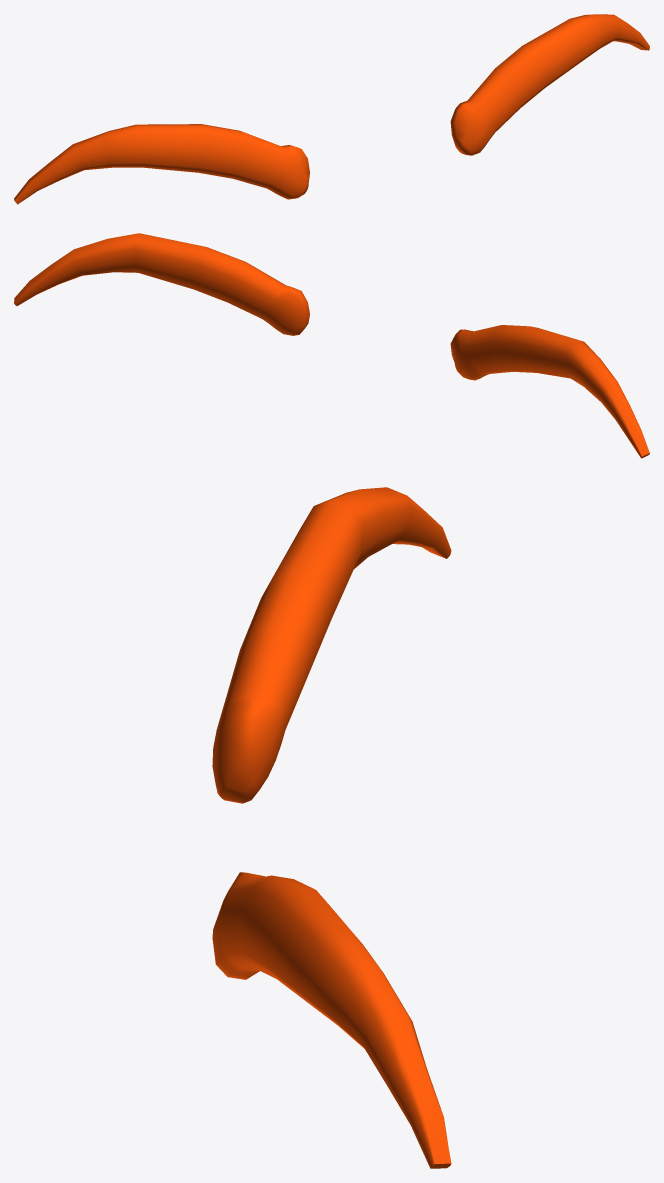
Rendered from Eyebrows_05_06.fbx.
3 renders of one model, top to bottom at view 1: azimuth 30°, elevation 25°; view 2: azimuth 150°, elevation 25°; view 3: azimuth 270°, elevation 25°, orthographic. The views are drawn at different scales.
Visible parts, largest first — view 1: Eyebrows_05_06; view 2: Eyebrows_05_06; view 3: Eyebrows_05_06.
Boxes of the visible parts, x1=… form: Eyebrows_05_06: x1=14, y1=14, x2=649, y2=204; Eyebrows_05_06: x1=14, y1=233, x2=649, y2=458; Eyebrows_05_06: x1=212, y1=487, x2=451, y2=1168.
Bounding box in the file's own units: 19.76 × 2.56 × 3.22.
